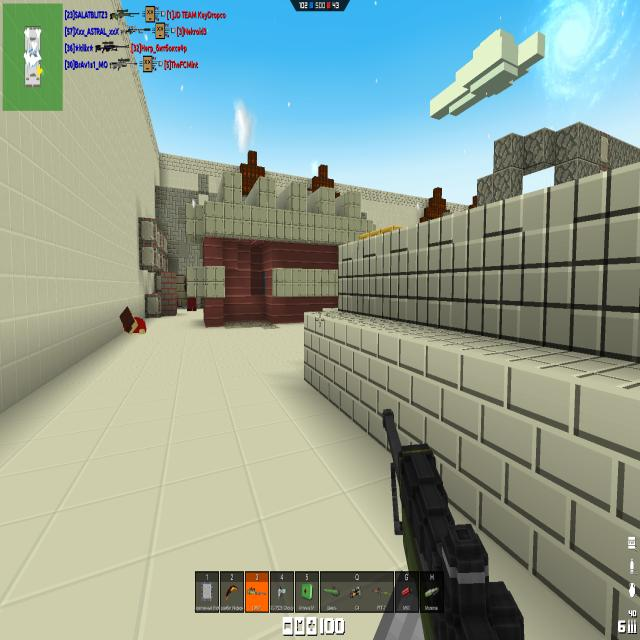player: (121, 305, 148, 334), (187, 298, 196, 311)
